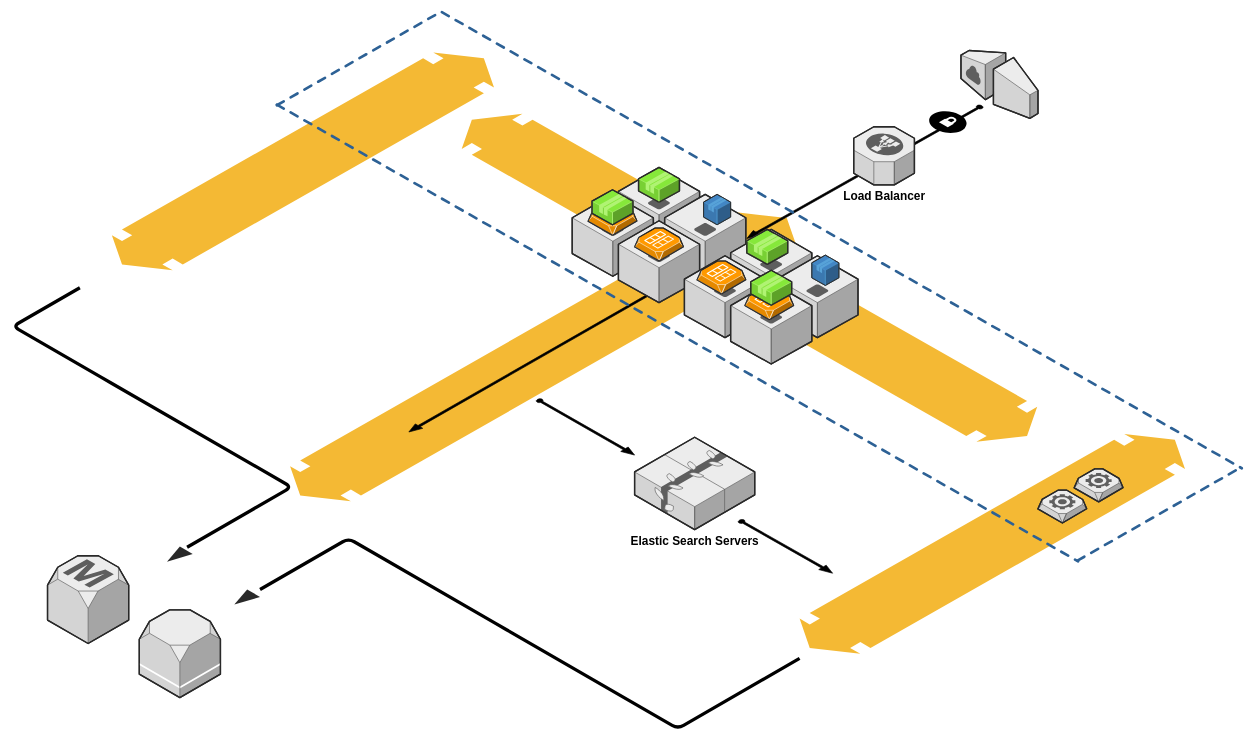
The diagram is 1253 pixels wide and 743 high, and some of its shapes have lost their labels. Here are the shapes that lost their labels. From the top down, the box of each, then its label:
(47, 555, 129, 644): MONGO DB Master
(139, 609, 220, 698): MONGO DB Nodes
